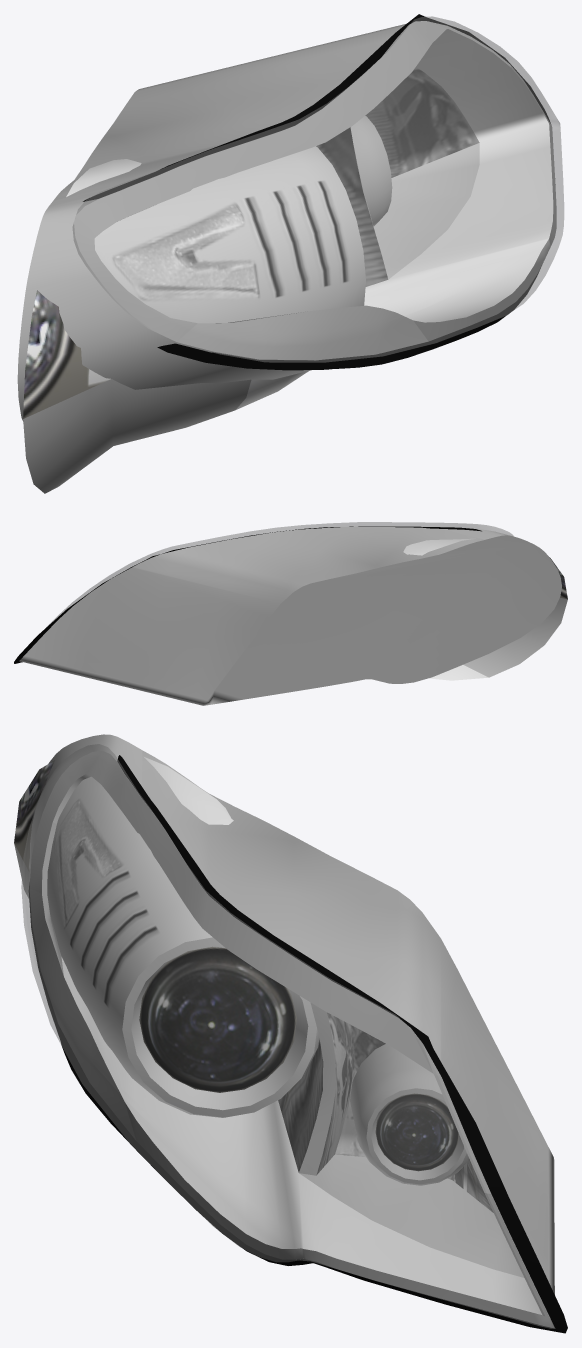
3 renders of one model, top to bottom at view 1: azimuth 30°, elevation 25°; view 2: azimuth 150°, elevation 25°; view 3: azimuth 270°, elevation 25°, orthographic. The views are drawn at different scales.
Visible parts, largest first — view 1: _6139_18_061B_R__6139_18_061B_R_2_N, _6139_18_061B_R__6139_18_061B_R_1_DTaSI, _6139_18_061B_R__6139_18_061B_R_3_DTaSI, _6139_18_061B_R_4_D__6139_18_061B_R; view 2: _6139_18_061B_R__6139_18_061B_R_2_N, _6139_18_061B_R__6139_18_061B_R_1_DTaSI, _6139_18_061B_R_4_D__6139_18_061B_R; view 3: _6139_18_061B_R__6139_18_061B_R_2_N, _6139_18_061B_R__6139_18_061B_R_1_DTaSI, _6139_18_061B_R__6139_18_061B_R_3_DTaSI, _6139_18_061B_R_4_D__6139_18_061B_R.
Boxes of the visible parts, x1,y1,x2,y2 form: _6139_18_061B_R__6139_18_061B_R_2_N: (17, 21, 556, 493); _6139_18_061B_R__6139_18_061B_R_1_DTaSI: (73, 16, 564, 362); _6139_18_061B_R__6139_18_061B_R_3_DTaSI: (351, 68, 478, 278); _6139_18_061B_R_4_D__6139_18_061B_R: (83, 14, 550, 370); _6139_18_061B_R__6139_18_061B_R_2_N: (19, 526, 567, 705); _6139_18_061B_R__6139_18_061B_R_1_DTaSI: (46, 522, 513, 627); _6139_18_061B_R_4_D__6139_18_061B_R: (14, 526, 481, 663); _6139_18_061B_R__6139_18_061B_R_2_N: (14, 734, 554, 1328); _6139_18_061B_R__6139_18_061B_R_1_DTaSI: (21, 744, 554, 1328); _6139_18_061B_R__6139_18_061B_R_3_DTaSI: (299, 1003, 523, 1277); _6139_18_061B_R_4_D__6139_18_061B_R: (28, 755, 567, 1333).
Size of the model in its own units: 55.26 by 18.82 by 34.01.
